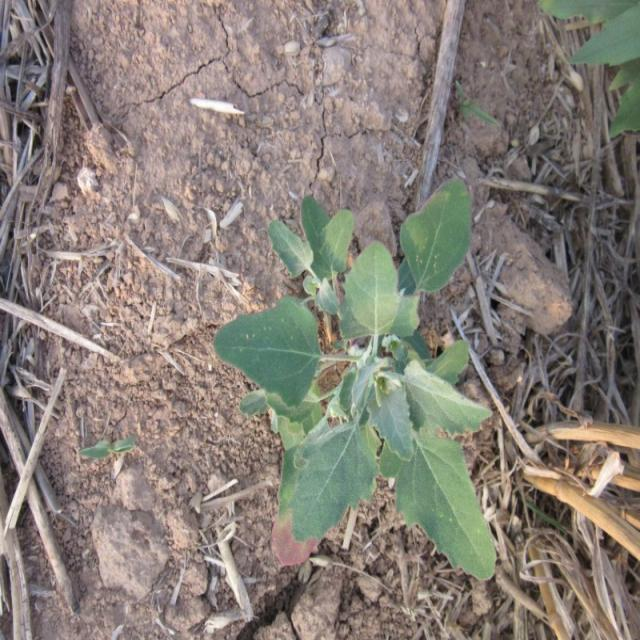ca: (222, 182, 500, 581)
